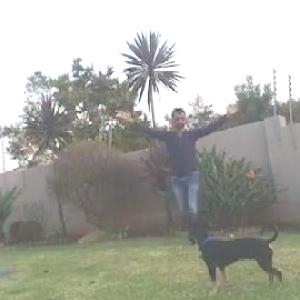takeoff: (110, 103, 238, 237)
